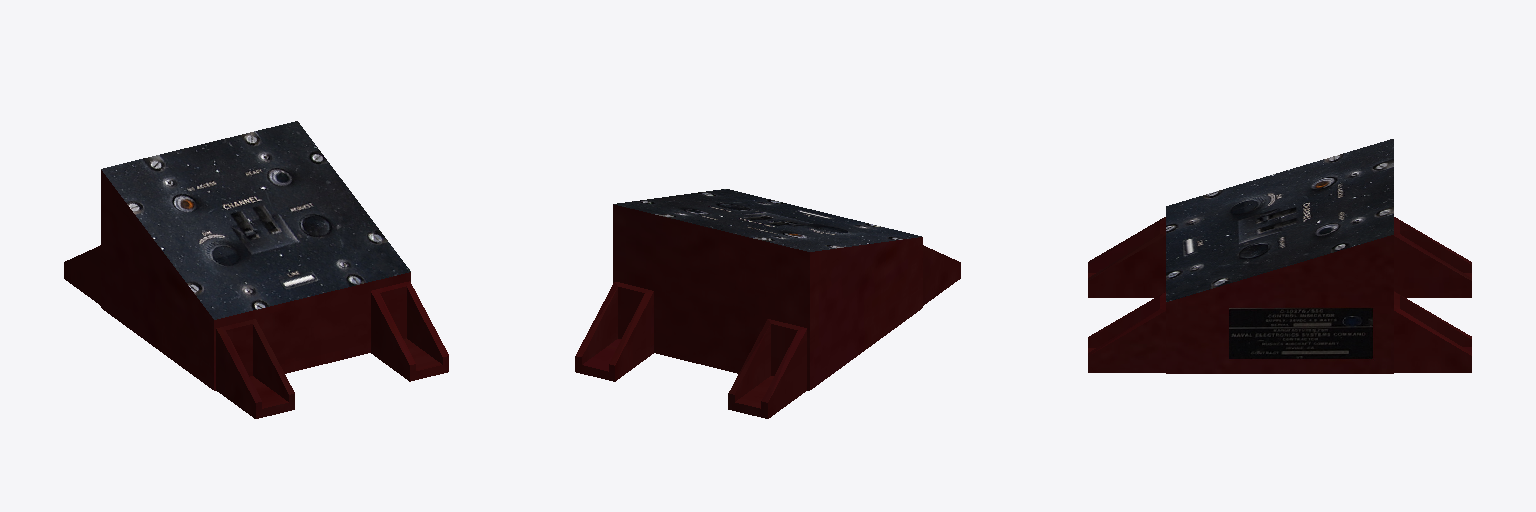
The picture shows the model from 3 angles: view 1: azimuth 30°, elevation 25°; view 2: azimuth 150°, elevation 25°; view 3: azimuth 270°, elevation 25°; orthographic projection.
Parts seen in each view (by area): view 1: RedPhoneChannelizer_Bridge.obj; view 2: RedPhoneChannelizer_Bridge.obj; view 3: RedPhoneChannelizer_Bridge.obj.
Boxes of the visible parts, <box> form: RedPhoneChannelizer_Bridge.obj: <box>64,121,448,418</box>; RedPhoneChannelizer_Bridge.obj: <box>575,189,960,418</box>; RedPhoneChannelizer_Bridge.obj: <box>1088,139,1471,373</box>.
Bounding box in the file's own units: 1.38 × 0.9329 × 2.34.
Materials: 1 (1 with a texture image).